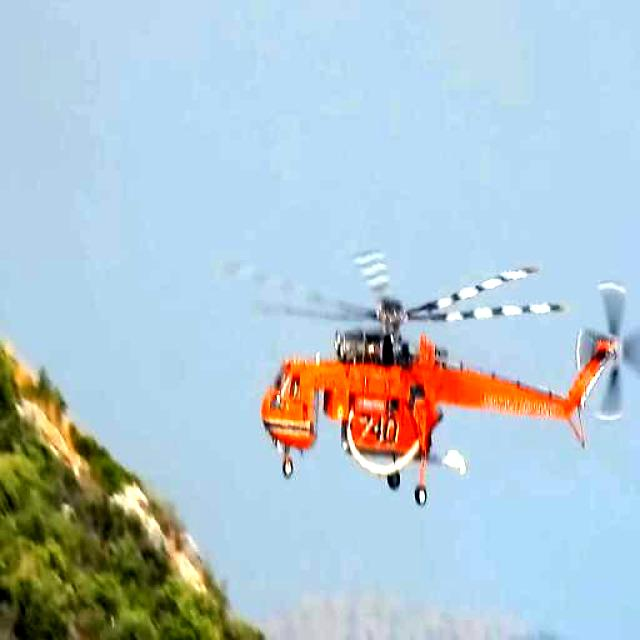drone: (214, 235, 640, 515)
